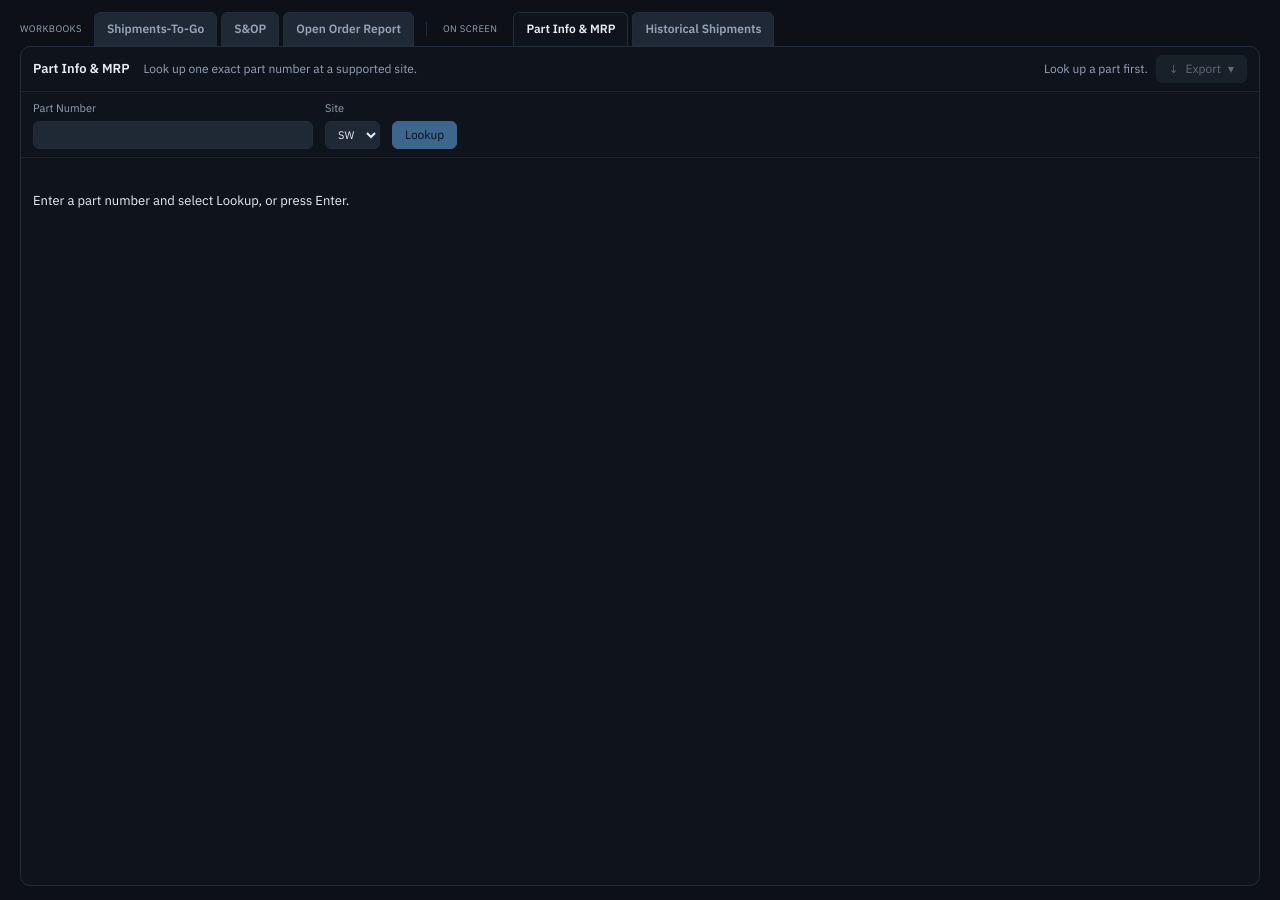
Reports combined Part Info and shared protected export — offline mocked host › Enter looks up once and does not export before protected activation
Expected: the dropdown labelled "Site" is enabled, [325,120,380,148]
Step 1. Type " ABC " into the field labelled "Part Number" → (173, 134), box [33,120,313,148]
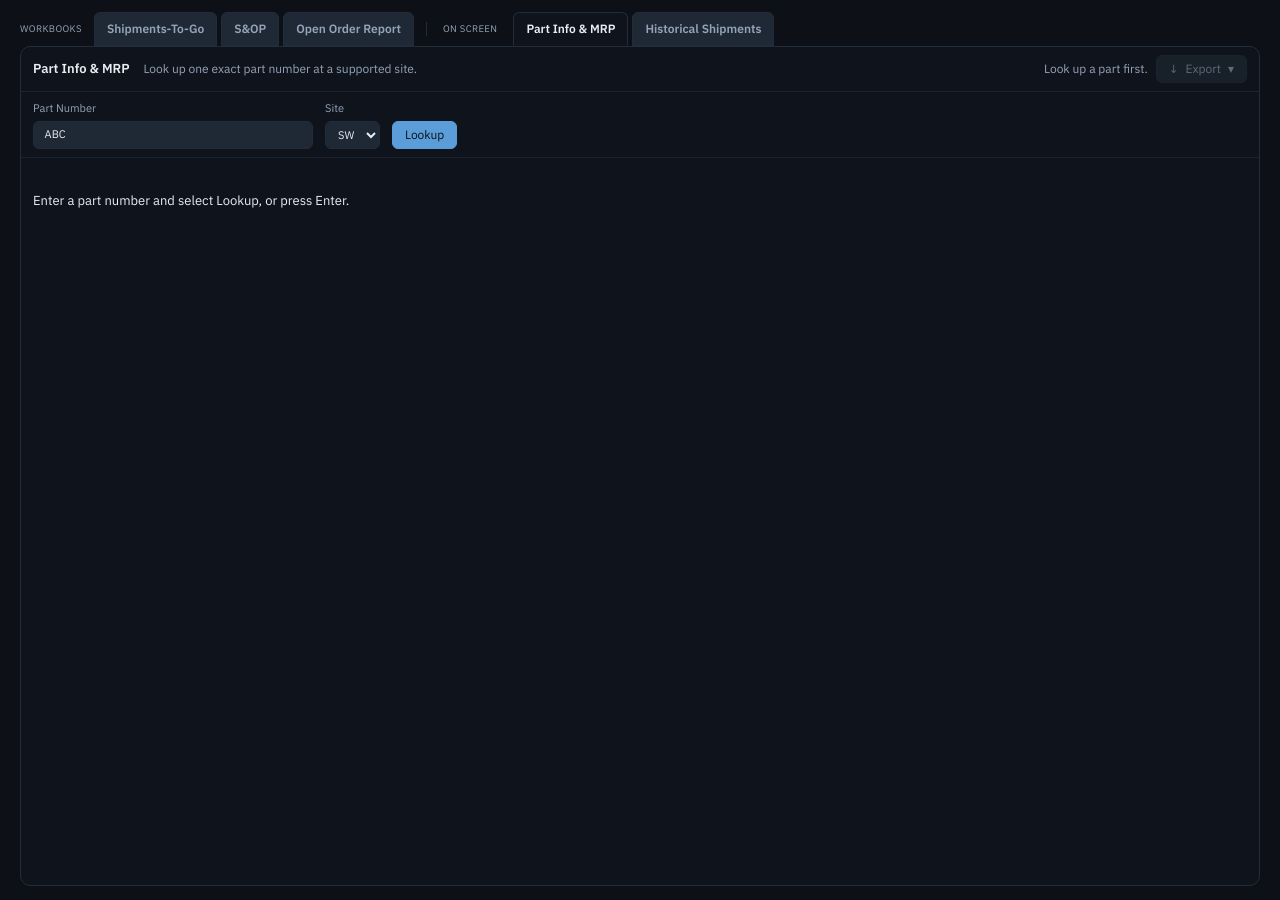
Step 2. Submit the form labelled "Part Number", box [21,92,1259,158]
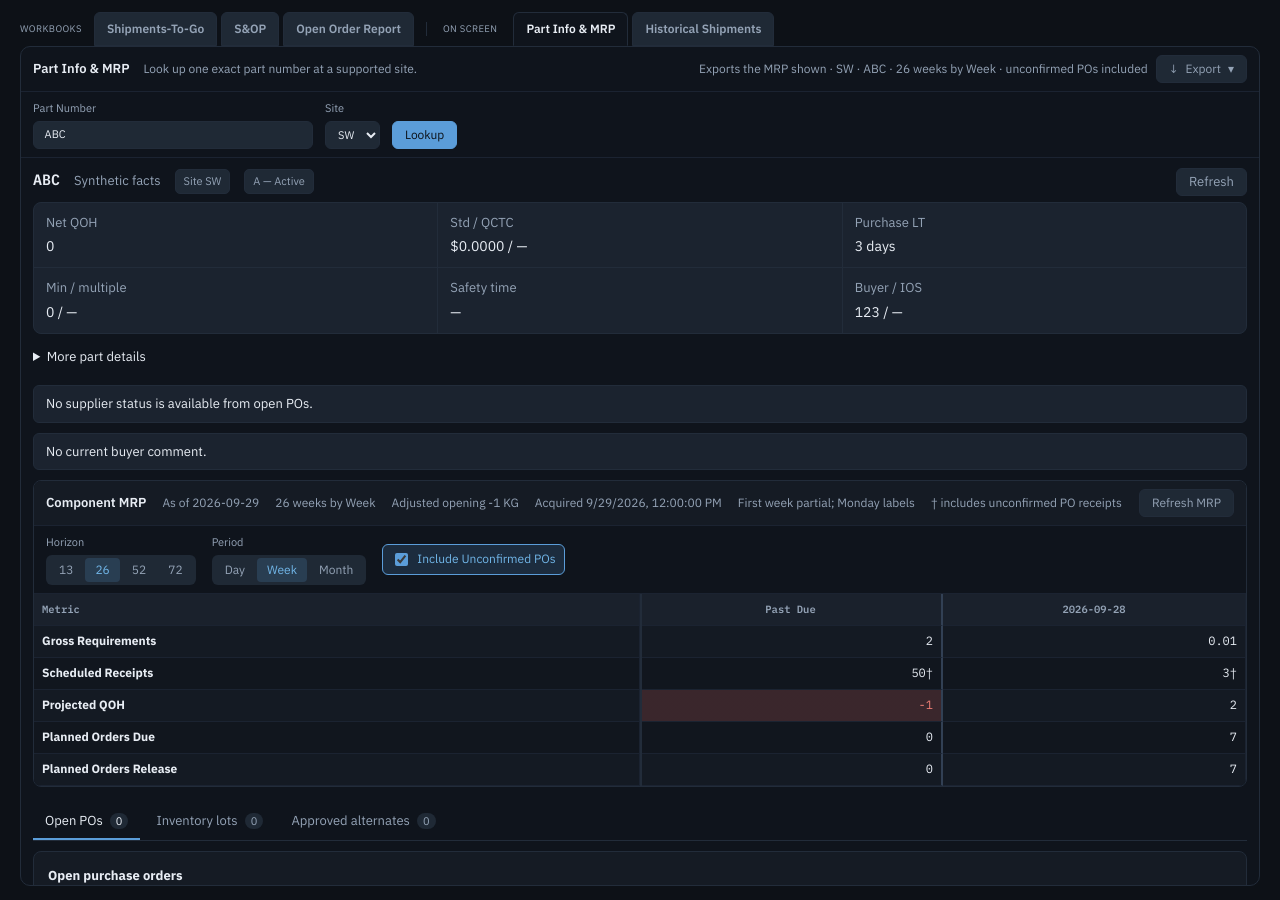
Now the table named "Component MRP periods" is shown, box [34,594,1246,786]
Now the button "↓ Export ▾" is enabled
Step 3. Click the button "↓ Export ▾" → (1201, 69), box [1156,55,1247,83]
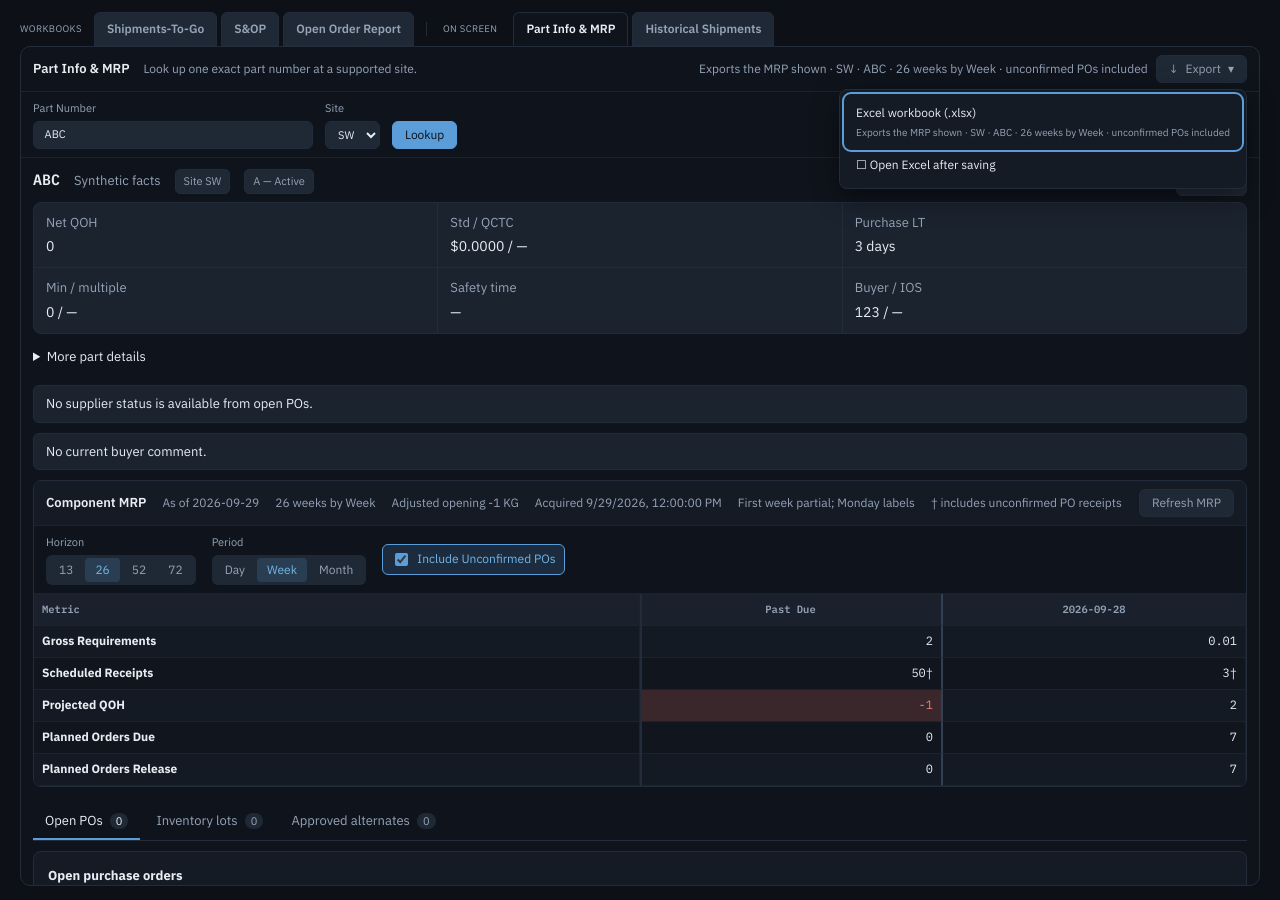
Step 4. Click the menu item "Excel workbook" → (916, 112), box [846,96,1240,148]
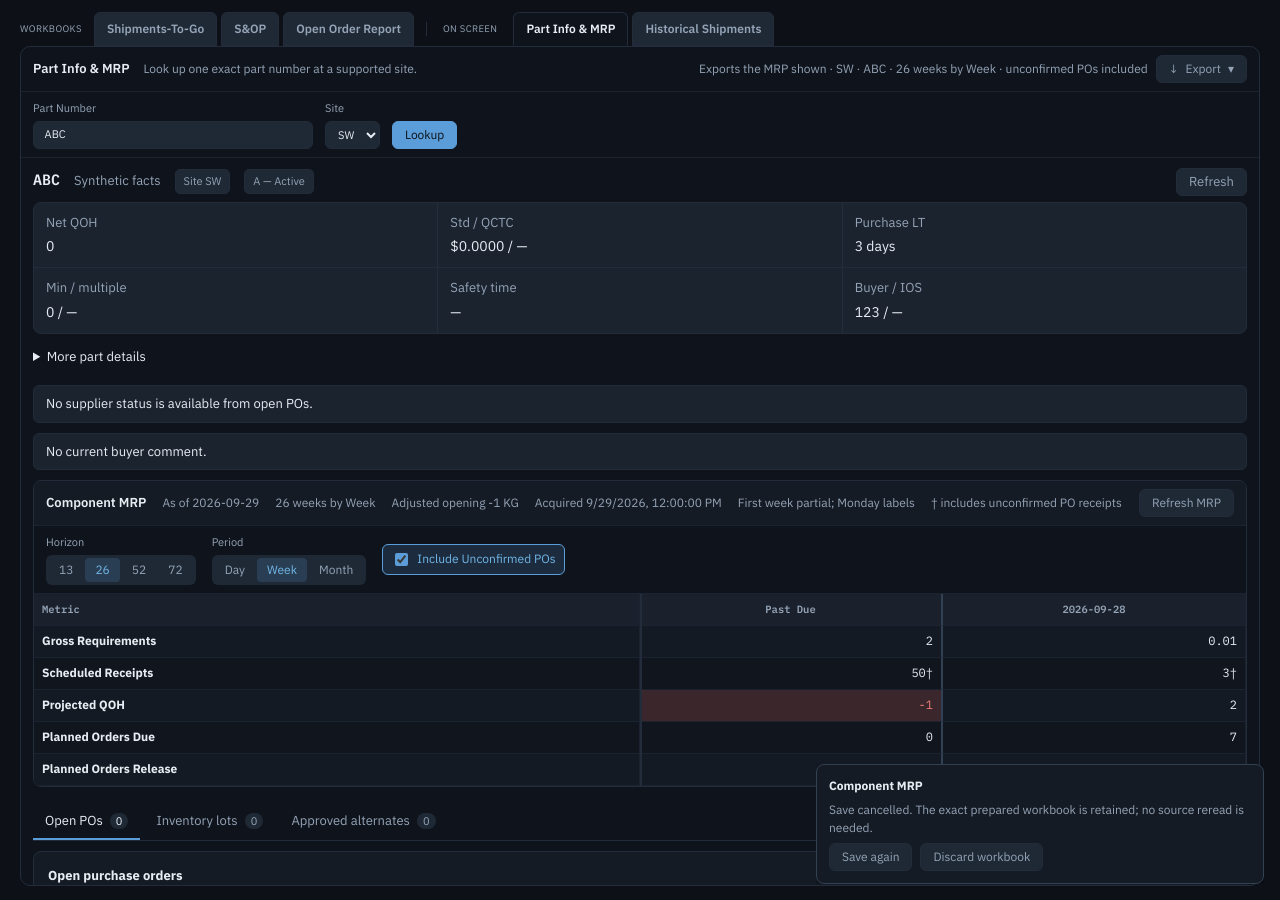
Now the button "Save again" is shown, box [829,843,912,871]
